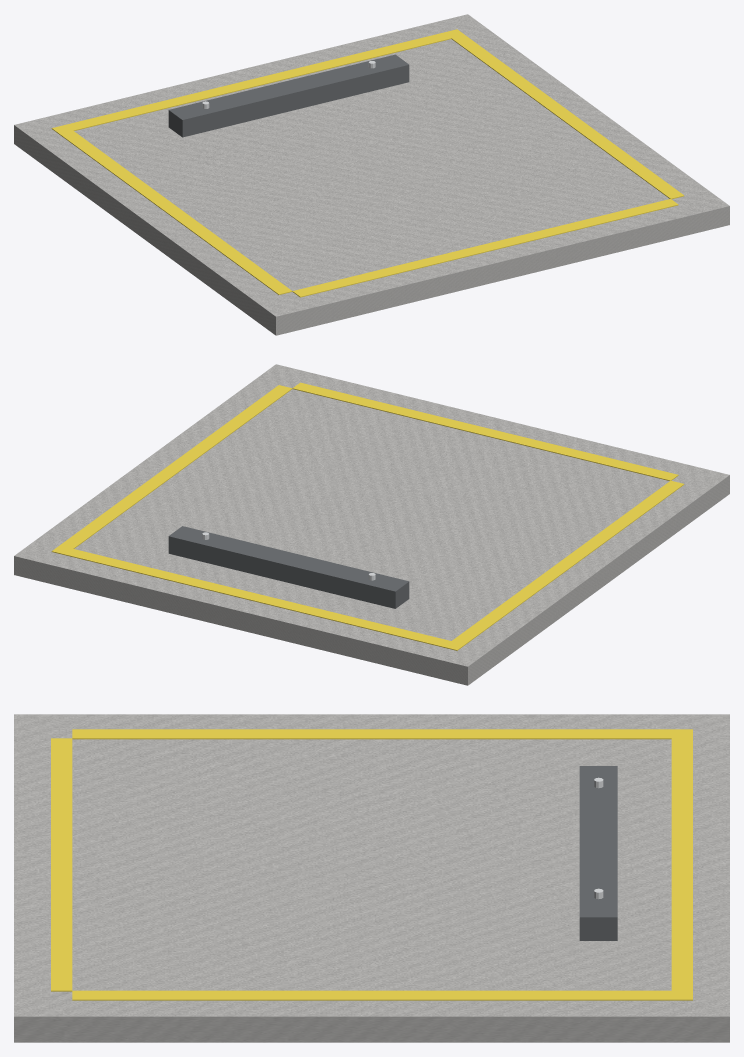
File: self-storage-facility-and-loading-bay-self-storage-fac-18bad828.glb
3 views of the same model, one above another, from view 1: azimuth 30°, elevation 25°; view 2: azimuth 150°, elevation 25°; view 3: azimuth 270°, elevation 25° (orthographic). The views are drawn at different scales.
Visible parts, largest first — view 1: self-storage-facility-and-loading-bay-parking-bay-marking-ti (×3); view 2: self-storage-facility-and-loading-bay-parking-bay-marking-ti (×3); view 3: self-storage-facility-and-loading-bay-parking-bay-marking-ti (×3).
Part boxes in pixels (bbox=[...]): self-storage-facility-and-loading-bay-parking-bay-marking-ti (×3): bbox=[14, 14, 729, 335]; self-storage-facility-and-loading-bay-parking-bay-marking-ti (×3): bbox=[14, 364, 729, 685]; self-storage-facility-and-loading-bay-parking-bay-marking-ti (×3): bbox=[14, 714, 729, 1042].
Size of the model in its own units: 3 by 0.26 by 3.
4 materials, 1 textured.
